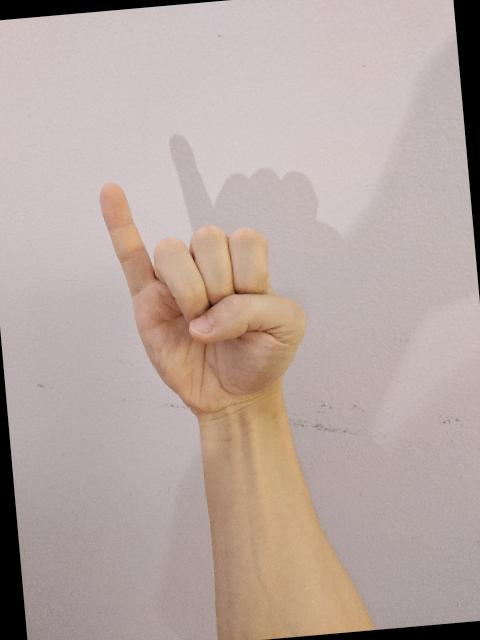I: (93, 162, 317, 424)
